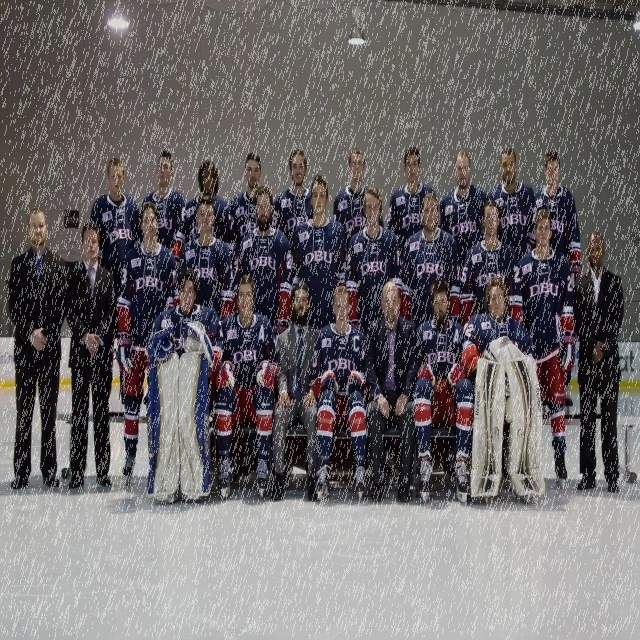pessoa: (460, 274, 547, 507), (114, 197, 177, 489), (6, 204, 68, 492), (514, 205, 574, 492), (210, 268, 278, 501), (412, 275, 475, 507), (572, 226, 626, 496), (309, 282, 370, 502), (66, 217, 114, 490), (532, 149, 582, 407), (268, 274, 324, 504), (362, 278, 416, 506), (233, 184, 293, 353), (291, 173, 347, 330), (146, 266, 224, 378), (399, 190, 462, 327), (346, 184, 404, 330), (460, 198, 524, 330), (88, 158, 142, 298), (177, 194, 235, 322), (438, 148, 490, 278), (386, 144, 439, 265), (487, 146, 537, 264), (138, 149, 187, 265), (332, 146, 384, 253), (270, 144, 314, 246), (229, 153, 275, 245), (184, 160, 232, 246)
